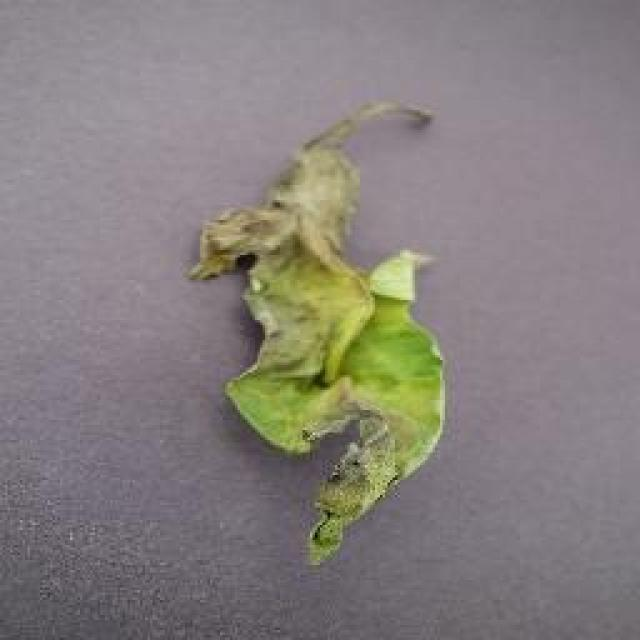Tomato Late Blight: (192, 143, 496, 572)
